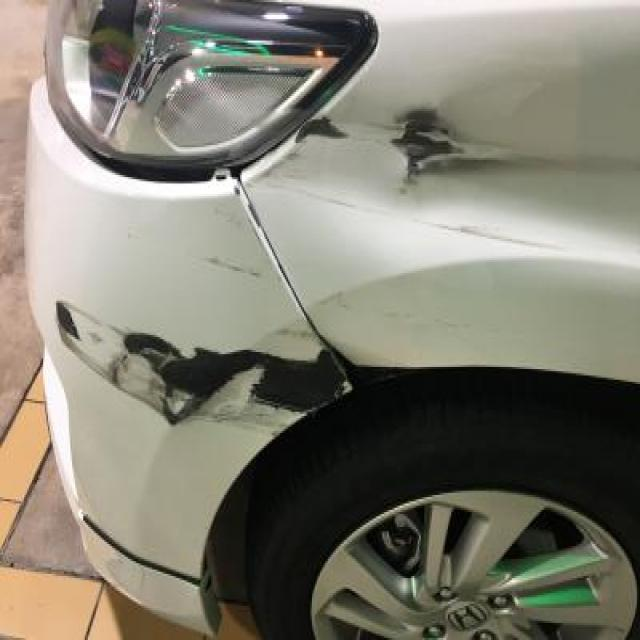scratch: (46, 296, 386, 424), (286, 98, 581, 198)
